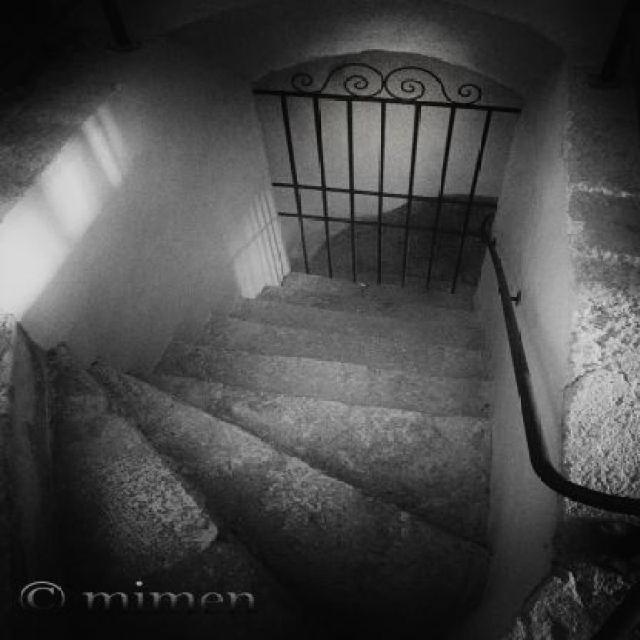stair: (0, 186, 495, 640)
